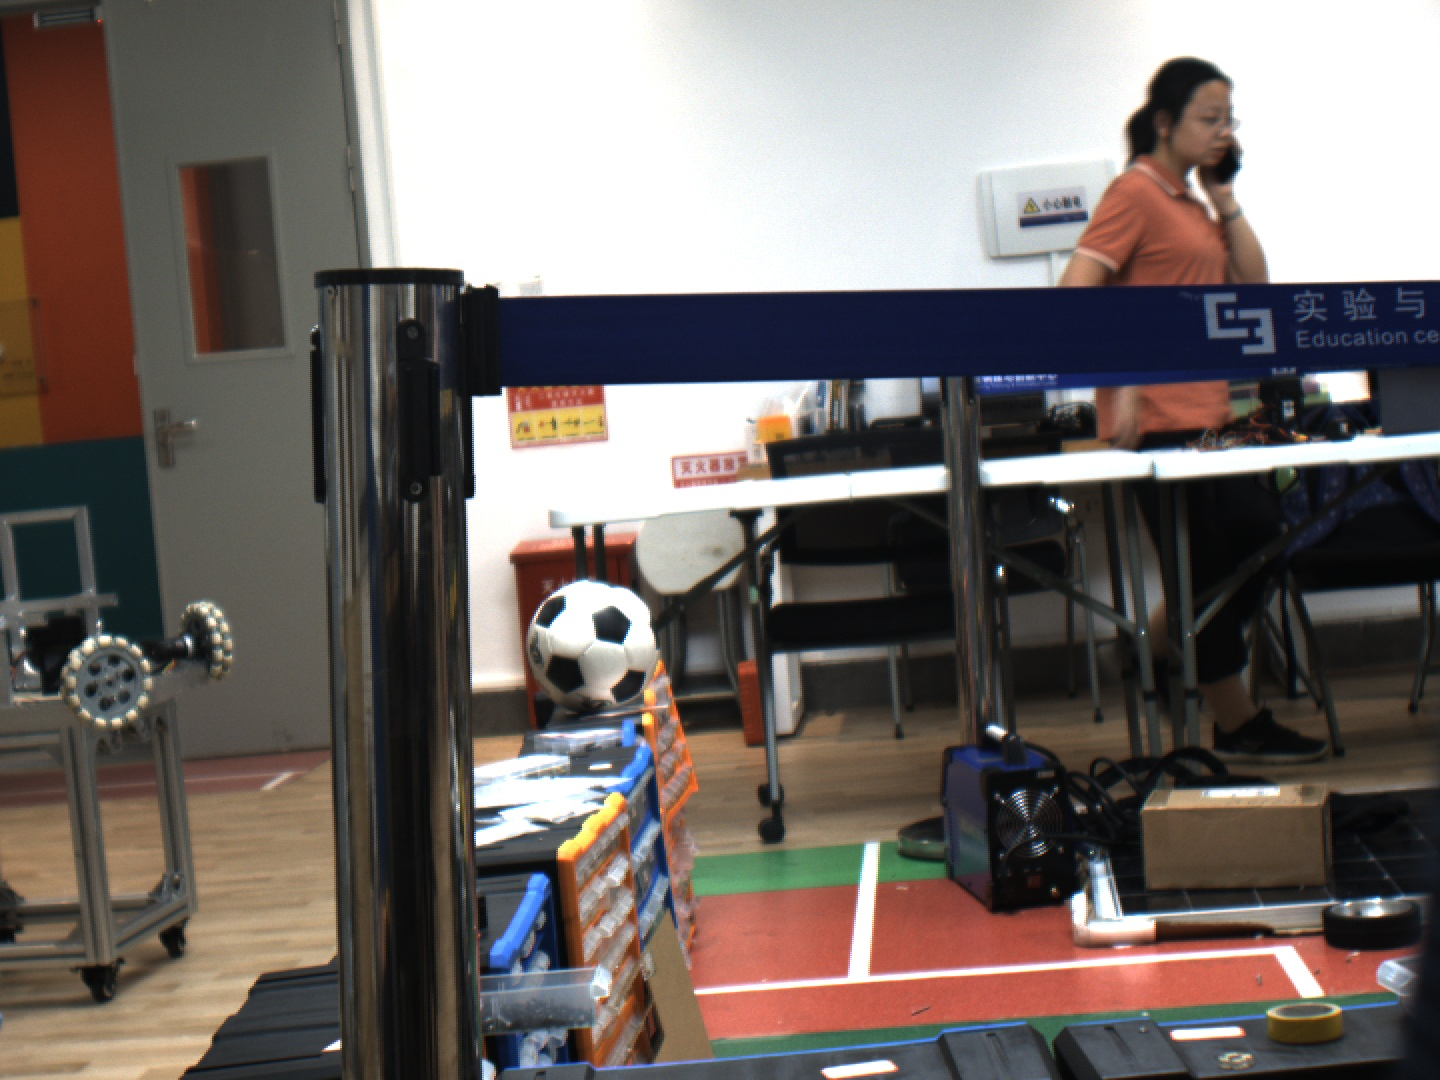ball: (513, 569, 681, 719)
